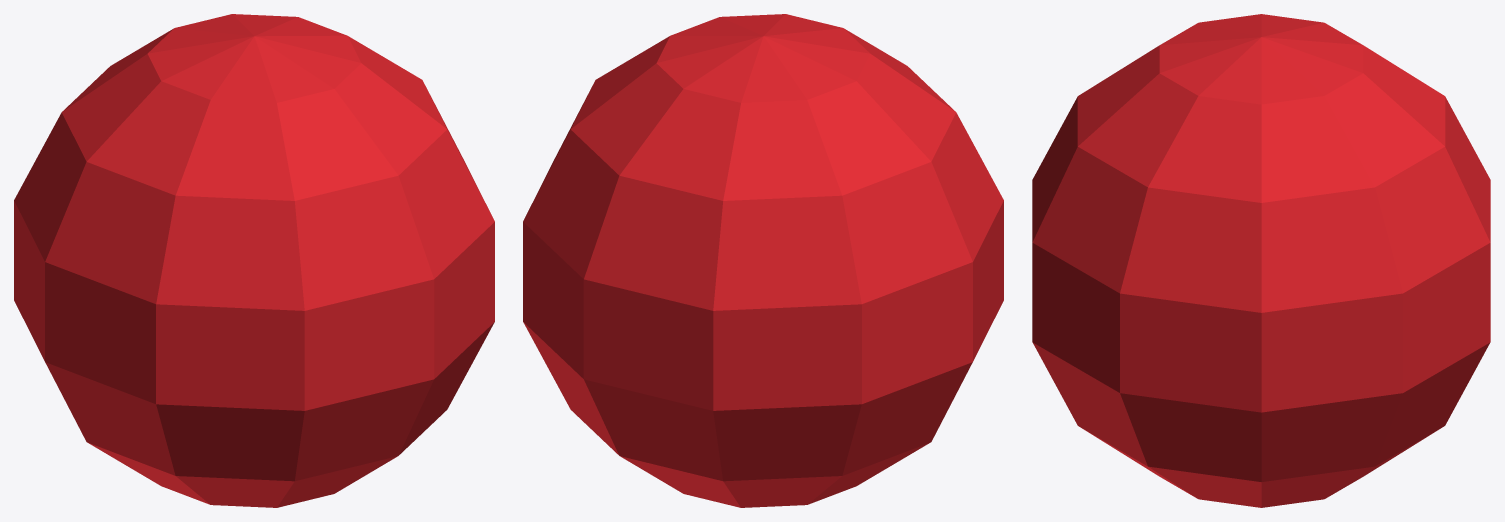
Rendered from clown_nose.glb.
3 renders of one model, left to right at view 1: azimuth 30°, elevation 25°; view 2: azimuth 150°, elevation 25°; view 3: azimuth 270°, elevation 25°, orthographic.
Parts seen in each view (by area): view 1: nose_second_nose; view 2: nose_second_nose; view 3: nose_second_nose.
Boxes of the visible parts, x1,y1,x2,y2 form: nose_second_nose: [14, 14, 494, 507]; nose_second_nose: [523, 14, 1003, 507]; nose_second_nose: [1032, 14, 1490, 507].
Bounding box in the file's own units: 0.078 × 0.08 × 0.0742.
